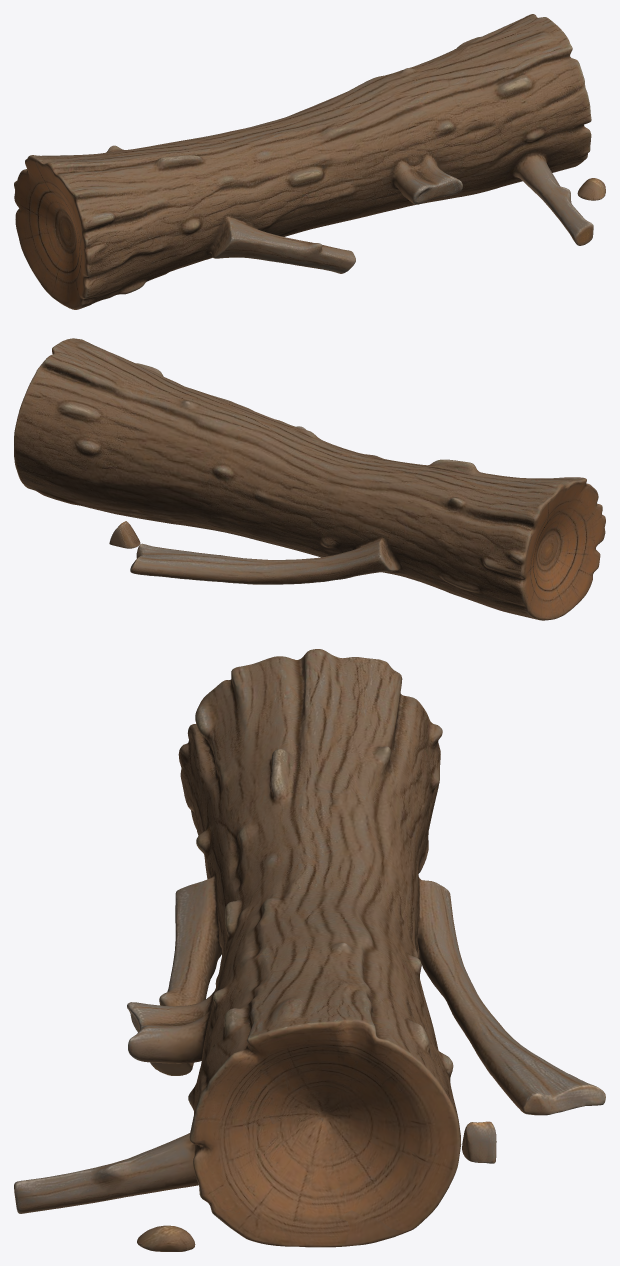
File: woodlog-a.glb
3 renders of one model, top to bottom at view 1: azimuth 30°, elevation 25°; view 2: azimuth 150°, elevation 25°; view 3: azimuth 270°, elevation 25°, orthographic. The views are drawn at different scales.
Visible parts, largest first — view 1: Mesh_0; view 2: Mesh_0; view 3: Mesh_0.
Boxes of the visible parts, x1,y1,x2,y2 form: Mesh_0: [14, 14, 605, 309]; Mesh_0: [14, 338, 605, 620]; Mesh_0: [14, 649, 605, 1251].
Bounding box in the file's own units: 1.2 × 0.352 × 0.7239.
1 material, 1 textured.
